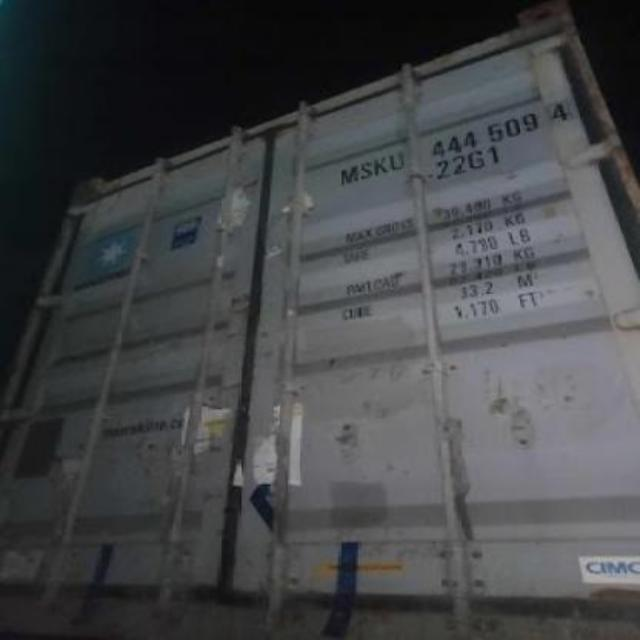0: (504, 117, 522, 137)
4: (552, 101, 572, 122), (428, 139, 448, 157), (462, 130, 480, 148), (448, 135, 462, 155)
5: (486, 122, 506, 142)
9: (522, 112, 540, 132)
K: (374, 156, 388, 174)
M: (338, 165, 359, 188)
S: (361, 160, 374, 182)
U: (388, 150, 406, 170)
